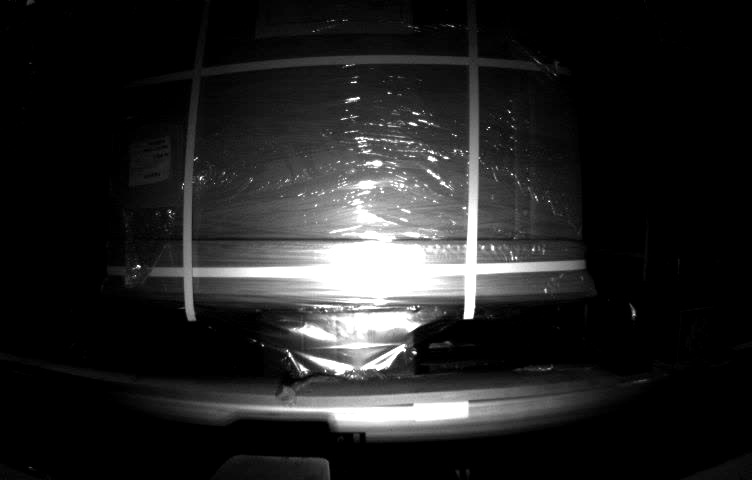True Barcode: (127, 138, 171, 184)
